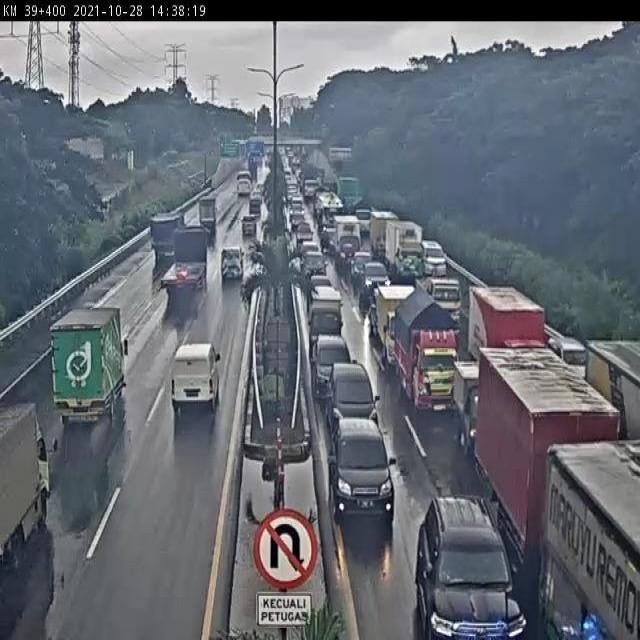big truck: (480, 344, 597, 560), (547, 437, 640, 640), (469, 281, 556, 352), (593, 334, 640, 434), (161, 228, 210, 291), (147, 204, 185, 267)
car: (419, 498, 524, 638), (325, 418, 399, 522), (328, 364, 385, 447), (170, 339, 222, 409), (312, 332, 356, 395), (222, 247, 249, 281), (238, 212, 260, 240)
small truck: (47, 297, 128, 433), (395, 292, 468, 421), (0, 401, 49, 559), (455, 353, 497, 463), (371, 285, 422, 364), (197, 192, 223, 233)
